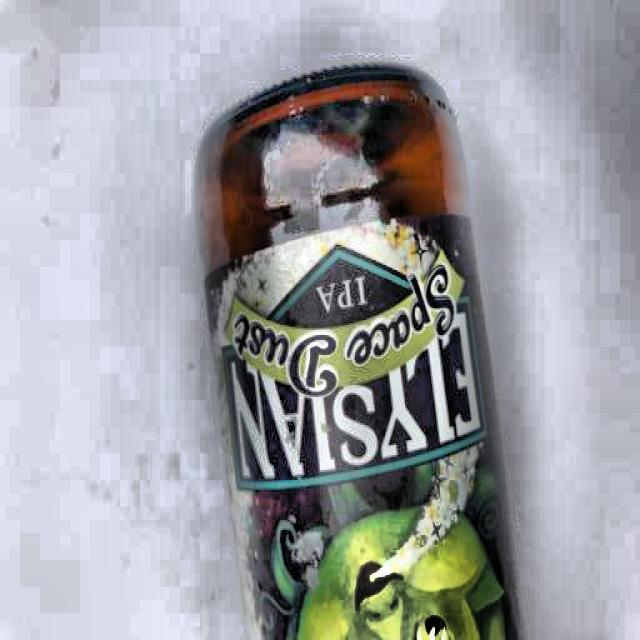glass: (192, 59, 536, 640)
